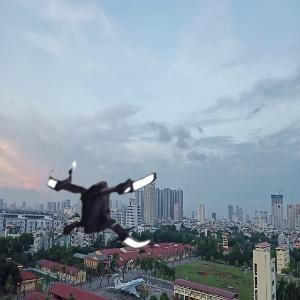drone: (32, 139, 166, 273)
